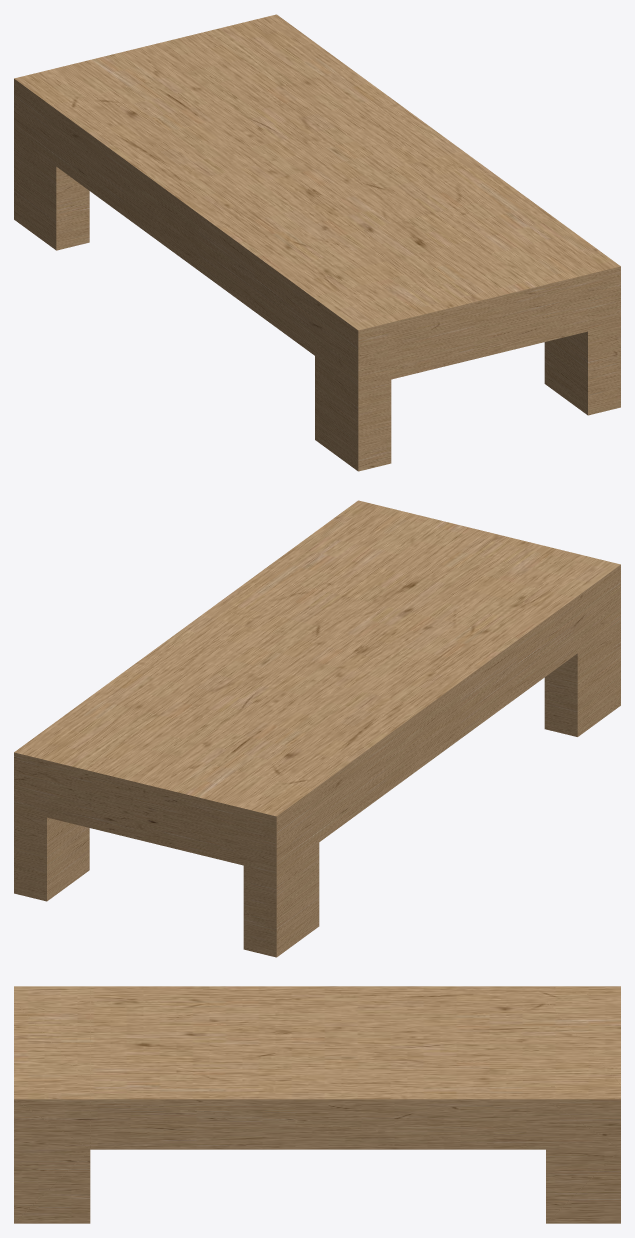
Rendered from Mesa cuadrada Chiquita.fbx.
3 renders of one model, top to bottom at view 1: azimuth 30°, elevation 25°; view 2: azimuth 150°, elevation 25°; view 3: azimuth 270°, elevation 25°, orthographic. The views are drawn at different scales.
Parts seen in each view (by area): view 1: Cube; view 2: Cube; view 3: Cube.
Part boxes in pixels (x1=…): Cube: x1=14, y1=14, x2=620, y2=471; Cube: x1=14, y1=500, x2=620, y2=957; Cube: x1=14, y1=986, x2=620, y2=1223.
Bounding box in the file's own units: 267 × 137 × 606.
Materials: 1 (1 with a texture image).
